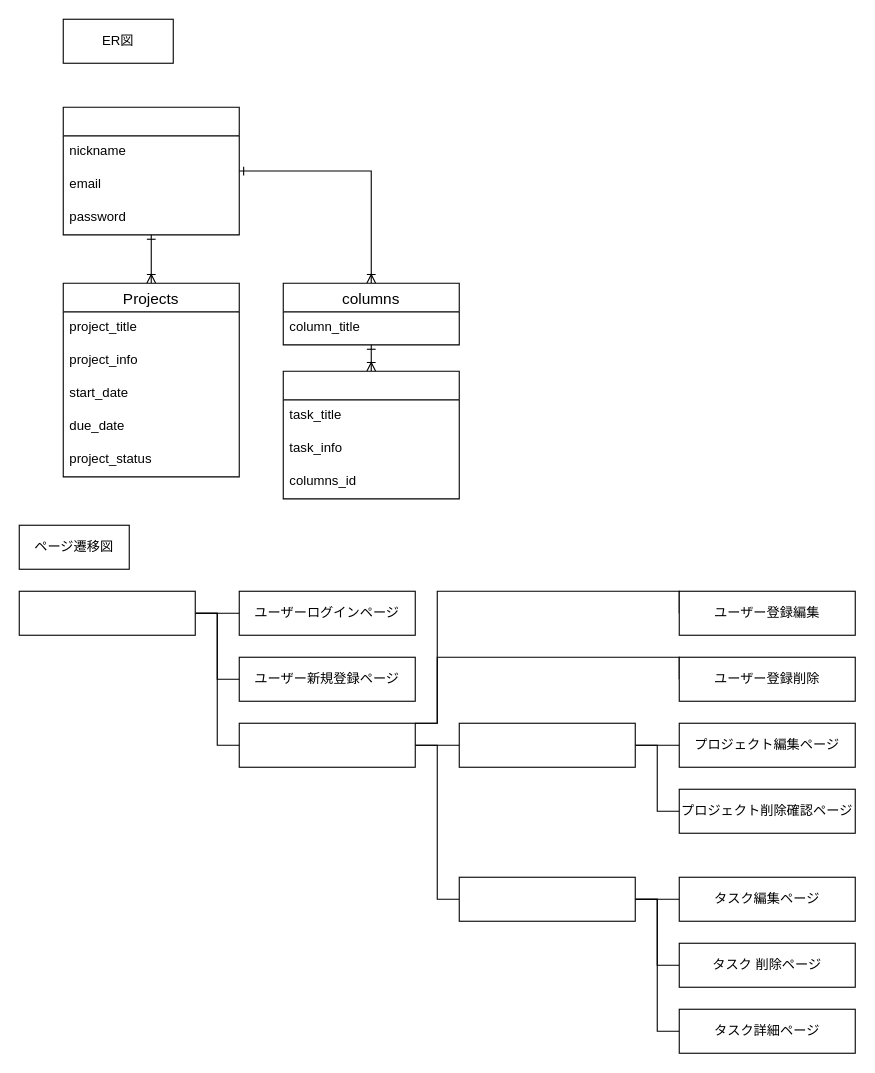
Image size: 875x1073. Some labels were removed from this diagram. Each missing label, with the box of its shape:
Tasks: (282, 370, 459, 499)
Users: (62, 106, 239, 235)
タスク一覧ページ: (458, 876, 635, 921)
トップページ: (18, 590, 195, 635)
プロジェクト一覧ページ: (458, 722, 635, 767)
ユーザーマイページ: (238, 722, 415, 767)
